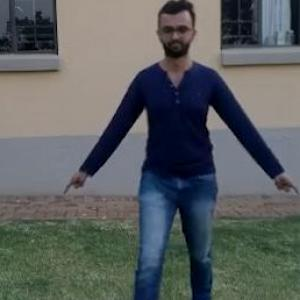land: (92, 22, 268, 290)
